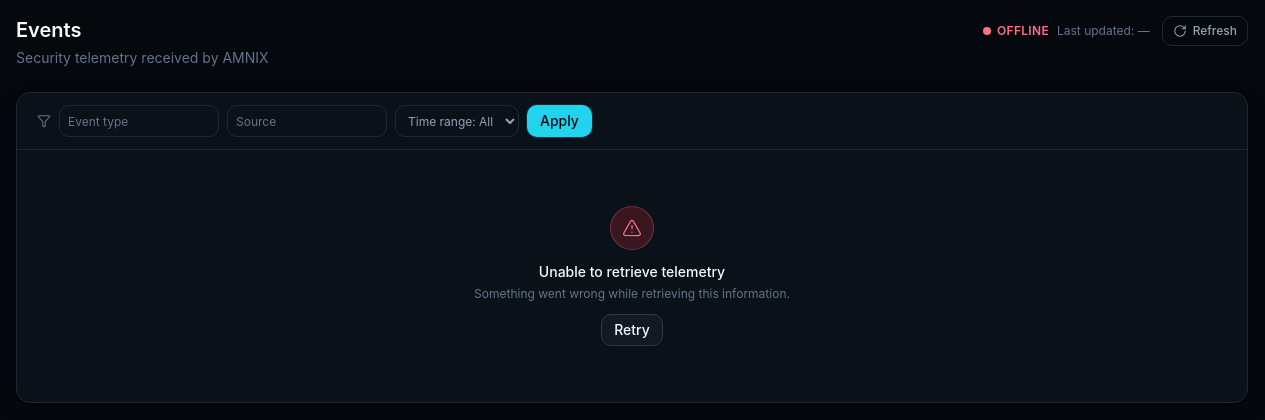
Test: EventsPage › shows a safe error state on failure, with retry
expect the text "Unable to retrieve telemetry" is shown: met, box [539,263,725,280]
Step 1. Click the button "Retry" → (632, 330), box [601,314,663,346]
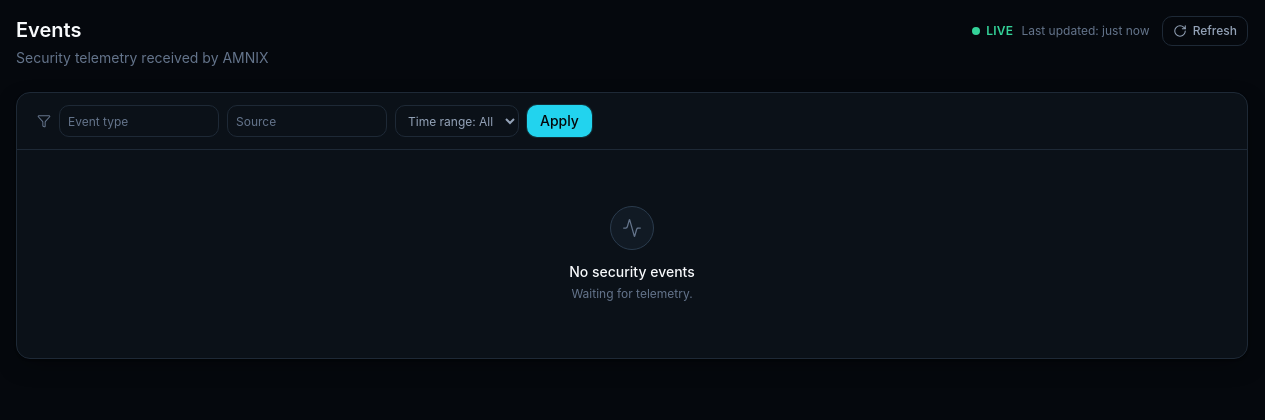
expect the text "No security events" is shown: met, box [569,262,695,282]
